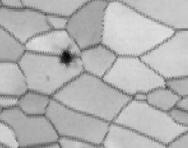good_void: (57, 45, 78, 65)
